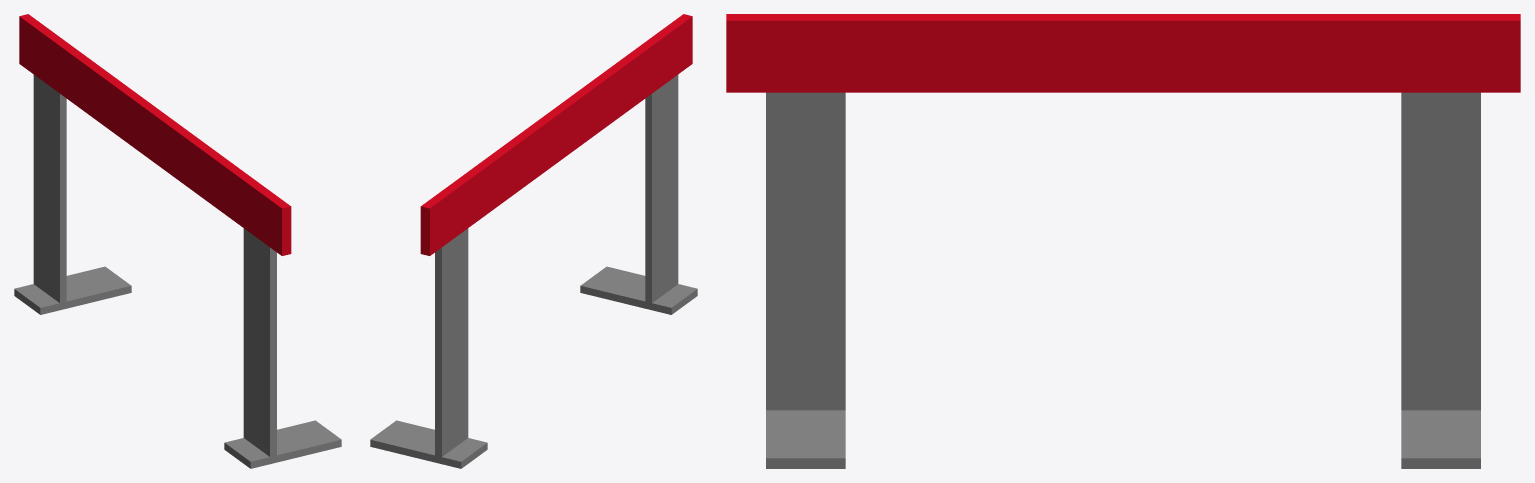
The model's file is Barricade.glb.
The picture shows the model from 3 angles, left to right: view 1: azimuth 30°, elevation 25°; view 2: azimuth 150°, elevation 25°; view 3: azimuth 270°, elevation 25°; orthographic projection. The views are drawn at different scales.
Visible parts, largest first — view 1: Cube; view 2: Cube; view 3: Cube.
Part boxes in pixels (x1,y1,x2,y2): Cube: (14,14,341,468); Cube: (370,14,697,468); Cube: (726,14,1520,468).
Bounding box in the file's own units: 0.4 × 1.11 × 2.
